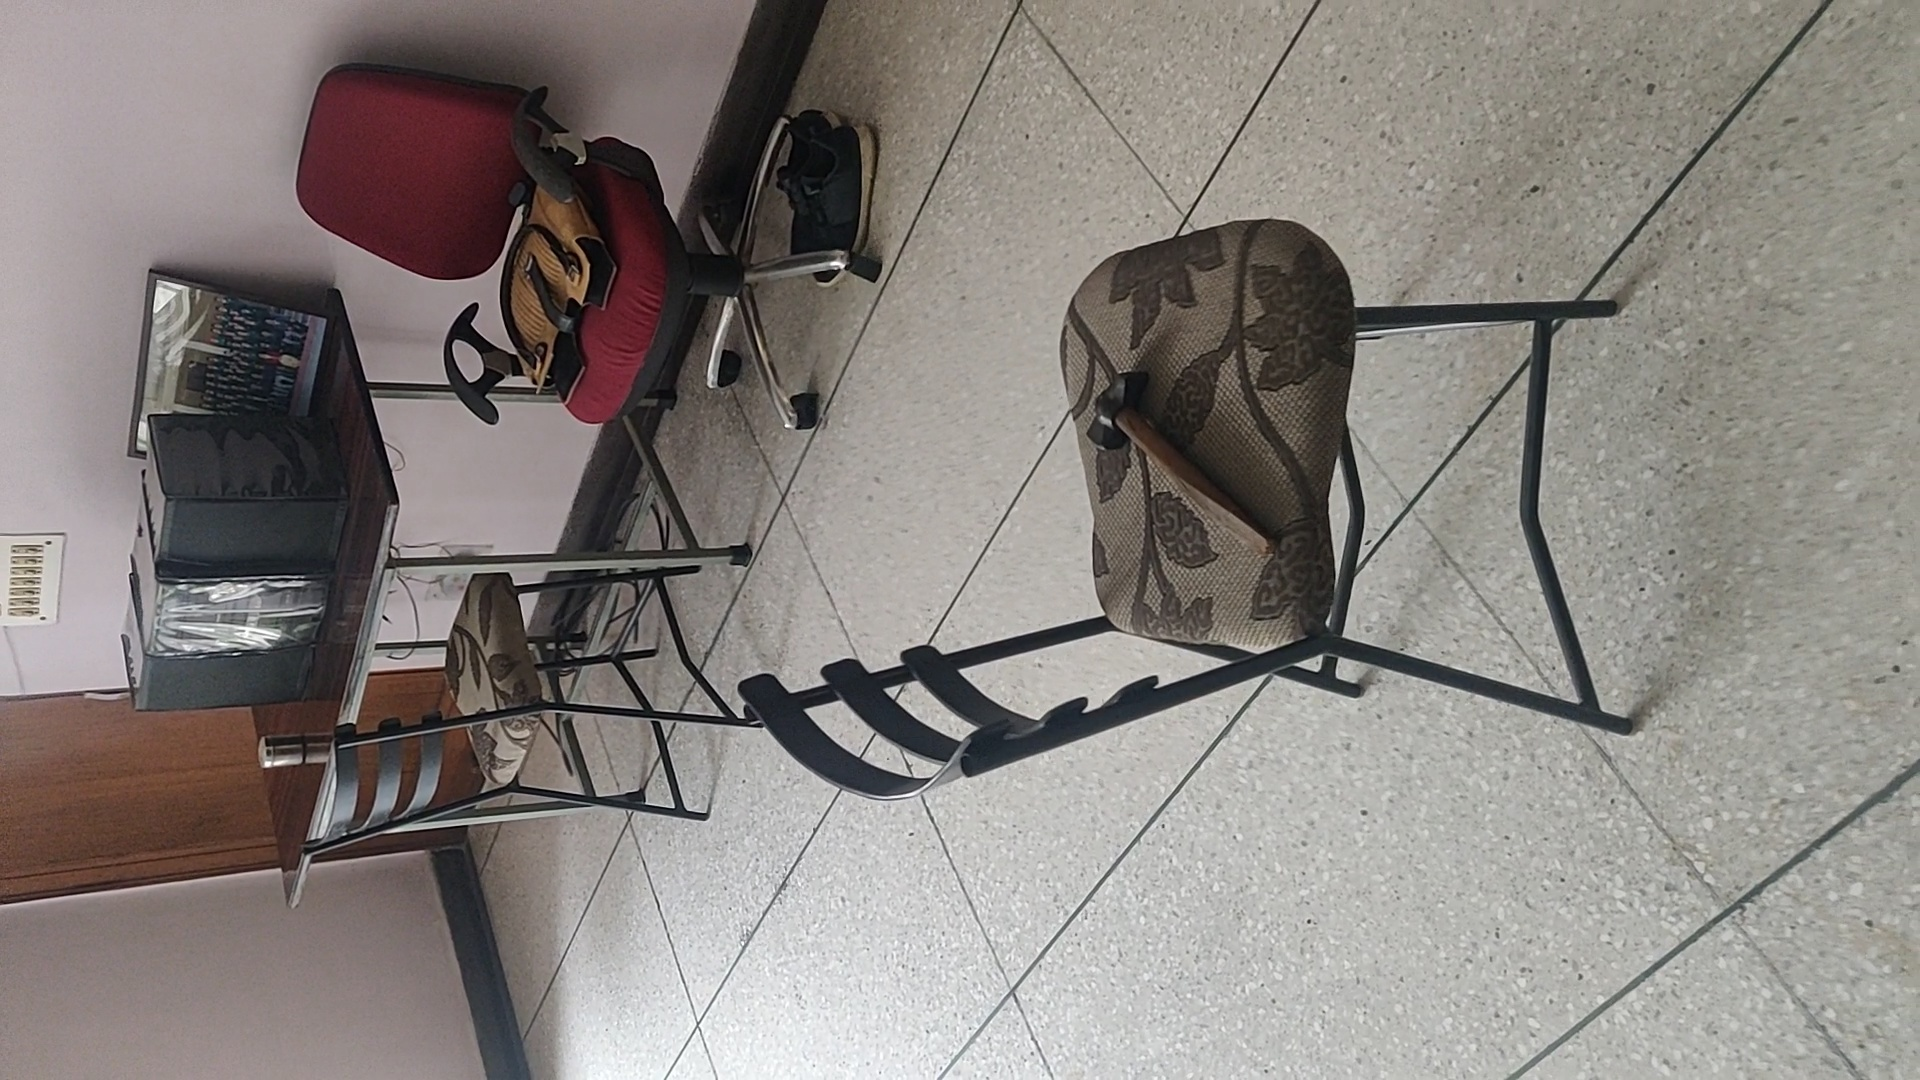hammer: (1088, 369, 1269, 560)
